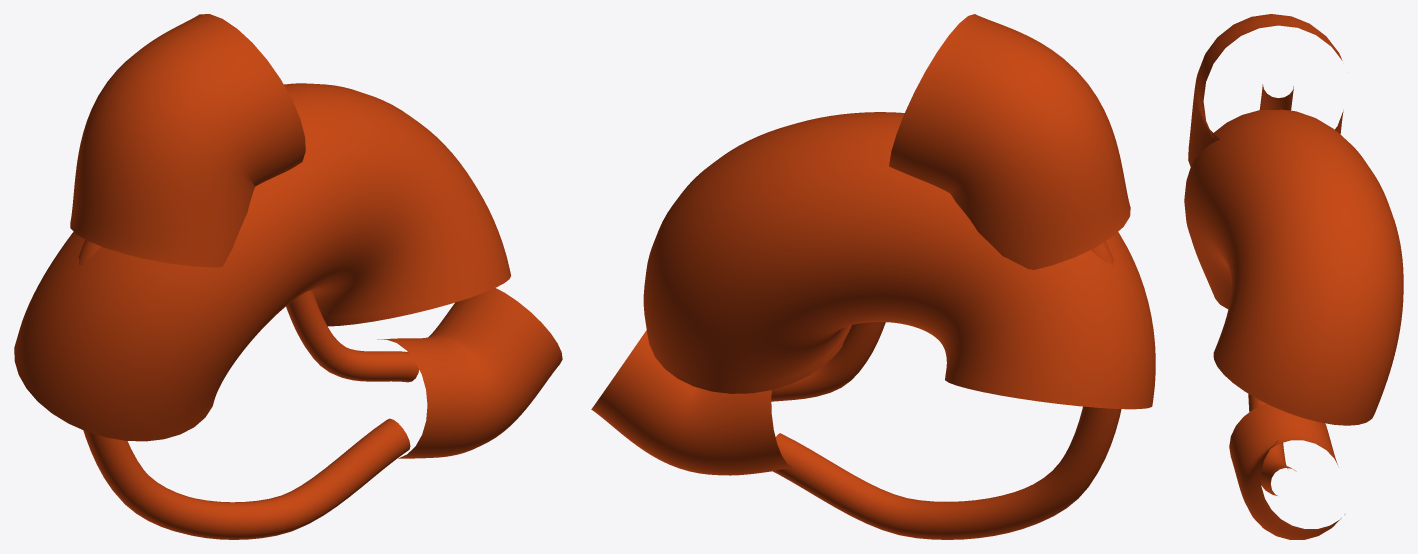
The model's file is stomach.glb.
3 renders of one model, left to right at view 1: azimuth 30°, elevation 25°; view 2: azimuth 150°, elevation 25°; view 3: azimuth 270°, elevation 25°, orthographic. The views are drawn at different scales.
Parts seen in each view (by area): view 1: Body, Fundus, Pylorus, GreaterCurvature, LesserCurvature; view 2: Body, Fundus, GreaterCurvature, Pylorus, LesserCurvature; view 3: Body, Pylorus, Fundus, GreaterCurvature.
Part boxes in pixels (bbox=[...]): Body: bbox=[14, 83, 510, 441]; Fundus: bbox=[70, 14, 305, 267]; Pylorus: bbox=[377, 288, 562, 458]; GreaterCurvature: bbox=[78, 239, 410, 539]; LesserCurvature: bbox=[286, 291, 419, 382]; Body: bbox=[643, 112, 1155, 409]; Fundus: bbox=[889, 14, 1130, 269]; GreaterCurvature: bbox=[772, 241, 1121, 539]; Pylorus: bbox=[591, 330, 792, 475]; LesserCurvature: bbox=[771, 322, 885, 401]; Body: bbox=[1184, 109, 1403, 425]; Pylorus: bbox=[1229, 403, 1344, 539]; Fundus: bbox=[1188, 14, 1343, 166]; GreaterCurvature: bbox=[1248, 84, 1296, 495].
Bounding box in the file's own units: 3.23 × 3.06 × 1.4.
